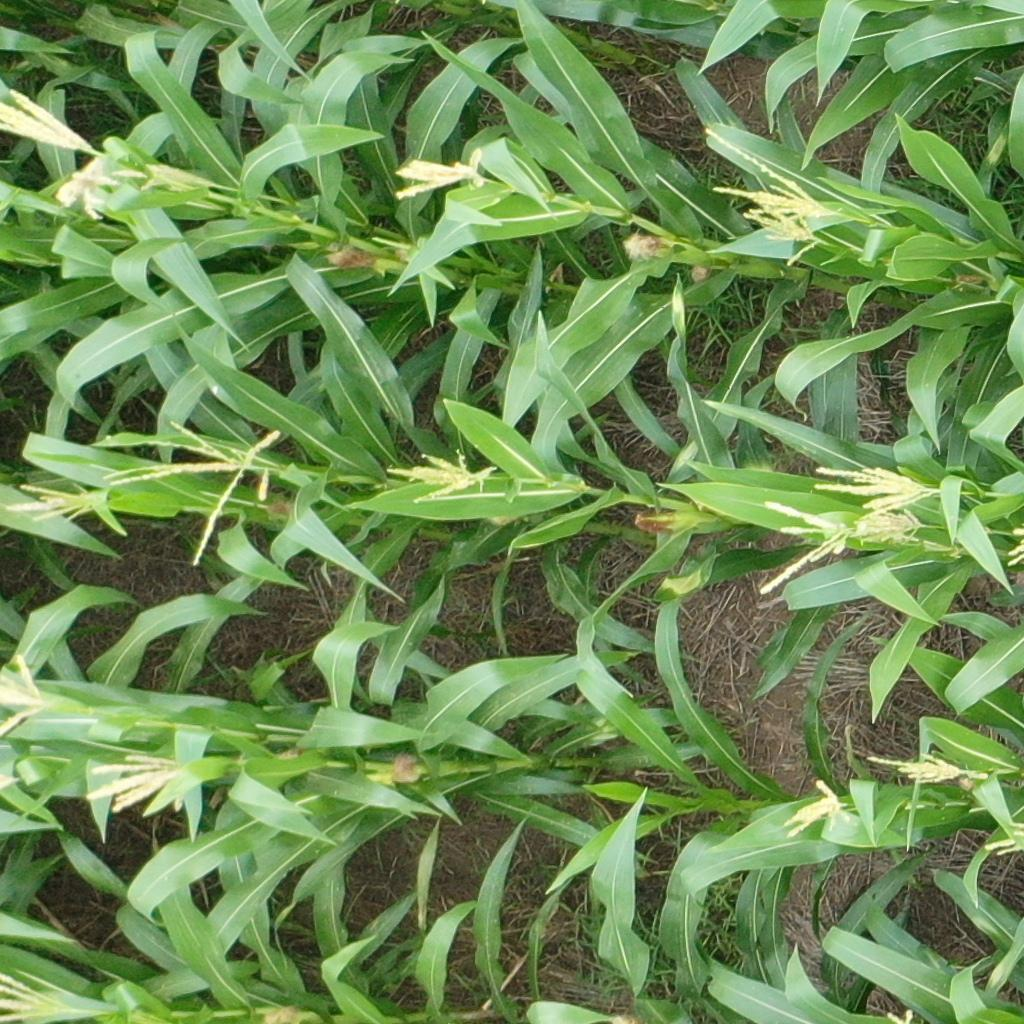Tassel: (99, 419, 288, 572), (705, 128, 841, 223), (756, 501, 860, 599), (812, 461, 948, 520), (1, 80, 104, 157), (380, 445, 499, 508), (84, 752, 195, 818), (390, 147, 488, 204), (743, 202, 824, 268), (53, 166, 145, 224), (866, 753, 993, 789), (5, 482, 102, 528), (784, 781, 855, 840), (1, 653, 48, 742), (1, 971, 71, 1021), (851, 506, 933, 544), (985, 821, 1024, 856), (1007, 522, 1024, 565)
